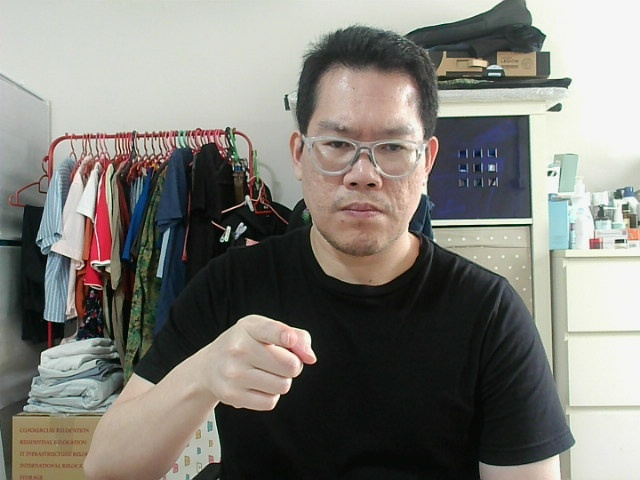you: (201, 324, 309, 403)
